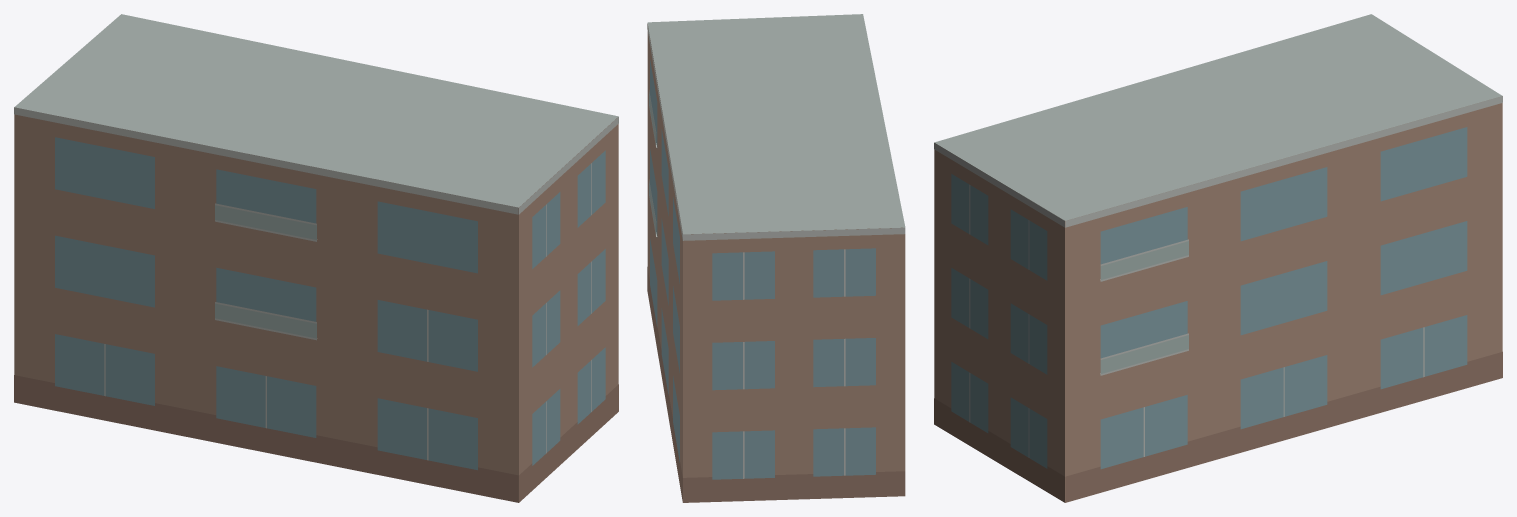
The model's file is survey-upis-32544254.glb.
The picture shows the model from 3 angles, left to right: view 1: azimuth 30°, elevation 25°; view 2: azimuth 150°, elevation 25°; view 3: azimuth 270°, elevation 25°; orthographic projection. The views are drawn at different scales.
Visible parts, largest first — view 1: survey-upis-32544254.tmp; view 2: survey-upis-32544254.tmp; view 3: survey-upis-32544254.tmp.
Part boxes in pixels (x1=…): survey-upis-32544254.tmp: x1=14, y1=14, x2=618, y2=502; survey-upis-32544254.tmp: x1=647, y1=14, x2=905, y2=502; survey-upis-32544254.tmp: x1=934, y1=14, x2=1502, y2=502.
Bounding box in the file's own units: 15.91 × 10.1 × 18.47.
